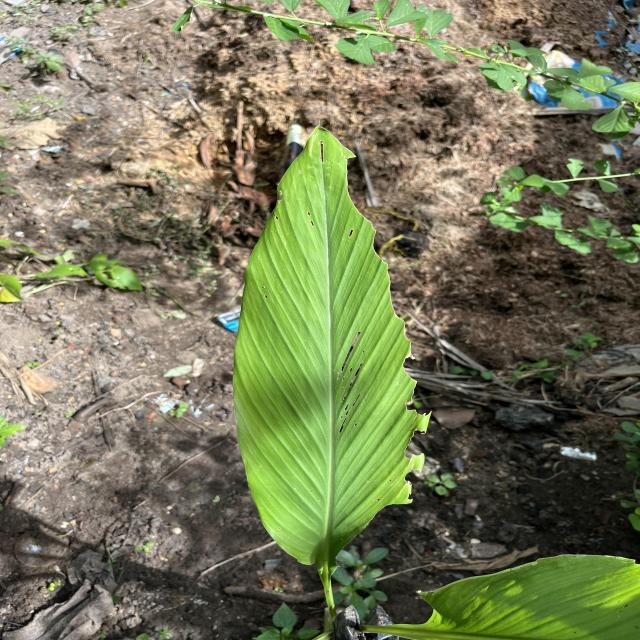Curcuma longa: (228, 113, 432, 570)
